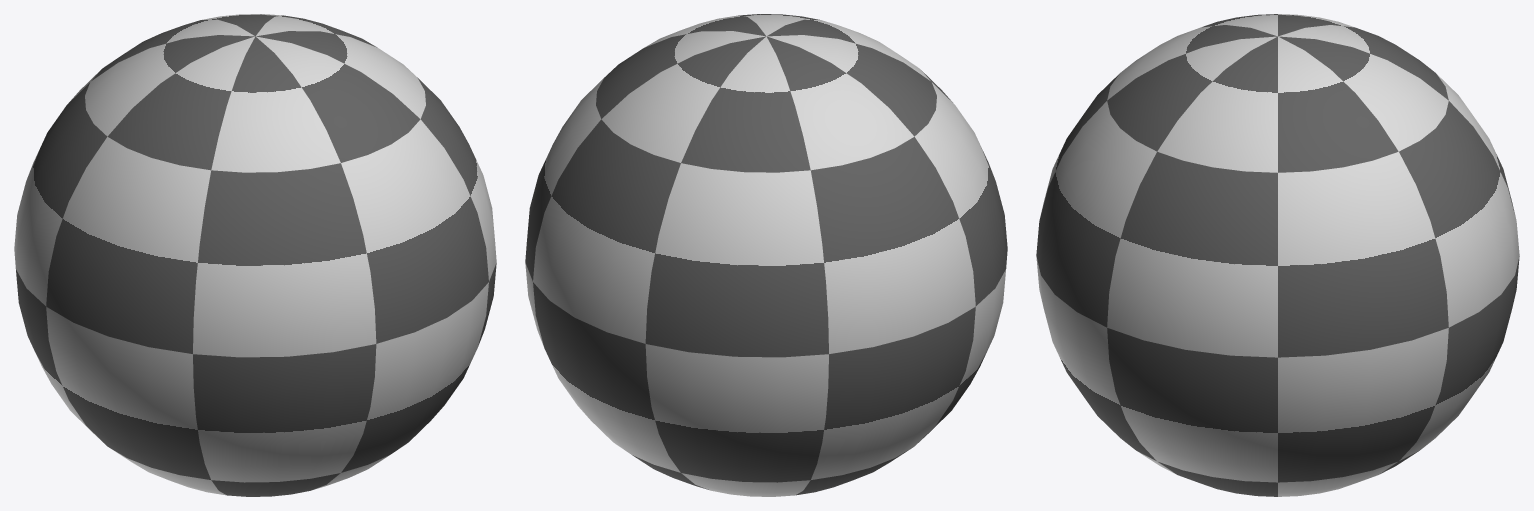
3 renders of one model, left to right at view 1: azimuth 30°, elevation 25°; view 2: azimuth 150°, elevation 25°; view 3: azimuth 270°, elevation 25°, orthographic.
Visible parts, largest first — view 1: Sphere; view 2: Sphere; view 3: Sphere.
Part boxes in pixels (x1,y1,x2,y2): Sphere: (14, 14, 496, 496); Sphere: (525, 14, 1007, 496); Sphere: (1036, 14, 1519, 496).
Bounding box in the file's own units: 2 × 2 × 2.
1 material, 1 textured.
